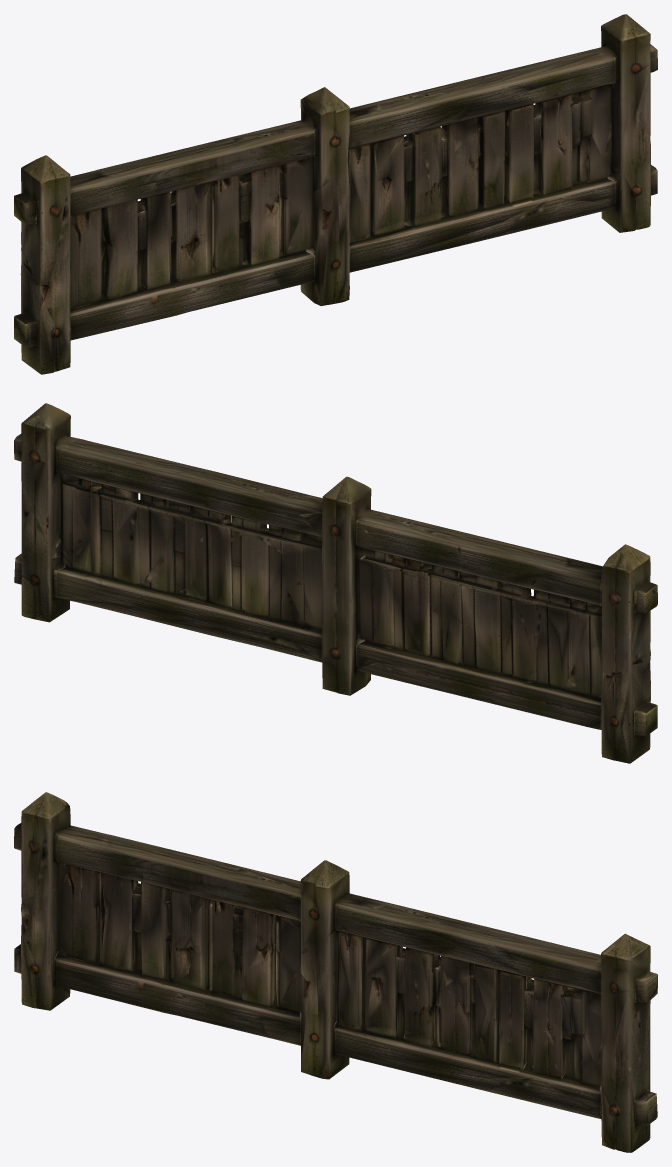
Rendered from Valla.glb.
3 renders of one model, top to bottom at view 1: azimuth 30°, elevation 25°; view 2: azimuth 150°, elevation 25°; view 3: azimuth 330°, elevation 25°, orthographic.
Visible parts, largest first — view 1: node_0; view 2: node_0; view 3: node_0.
Boxes of the visible parts, x1,y1,x2,y2 form: node_0: (14, 14, 657, 374); node_0: (14, 403, 657, 763); node_0: (14, 792, 657, 1152).
Size of the model in its own units: 1.17 by 0.3701 by 0.0813.
1 material, 1 textured.
